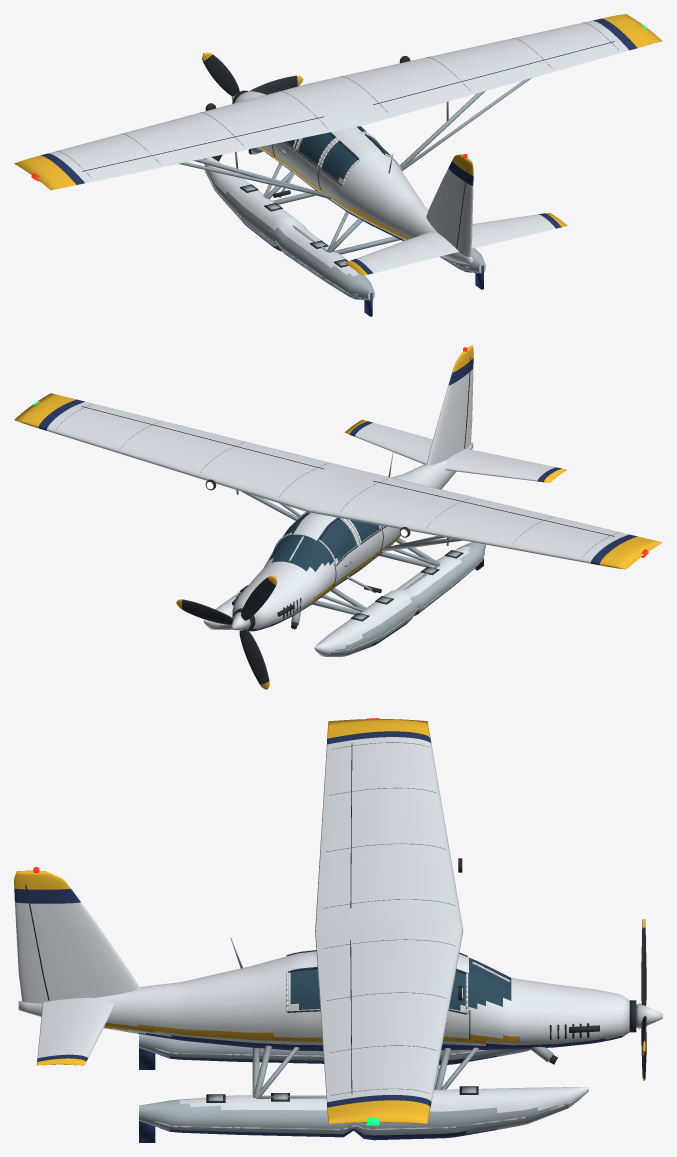
The model's file is floatplane.glb.
The picture shows the model from 3 angles, top to bottom: view 1: azimuth 30°, elevation 25°; view 2: azimuth 150°, elevation 25°; view 3: azimuth 270°, elevation 25°; orthographic projection. The views are drawn at different scales.
Visible parts, largest first — view 1: floatplane_airframe_fp_pearl, floatplane_airframe_fp_alloy, floatplane_airframe_fp_float, floatplane_airframe_fp_yellow, floatplane_airframe_fp_indigo, floatplane_airframe_fp_glass, floatplane_airframe_fp_gasket, floatplane_propeller_mesh; view 2: floatplane_airframe_fp_pearl, floatplane_airframe_fp_alloy, floatplane_airframe_fp_glass, floatplane_airframe_fp_yellow, floatplane_airframe_fp_float, floatplane_propeller_mesh, floatplane_airframe_fp_gasket, floatplane_airframe_fp_indigo; view 3: floatplane_airframe_fp_pearl, floatplane_airframe_fp_float, floatplane_airframe_fp_indigo, floatplane_airframe_fp_yellow, floatplane_airframe_fp_alloy, floatplane_airframe_fp_glass, floatplane_airframe_fp_gasket, floatplane_propeller_mesh.
Part boxes in pixels (x1,y1,x2,y2): floatplane_airframe_fp_pearl: (48,20,629,299); floatplane_airframe_fp_alloy: (56,22,618,295); floatplane_airframe_fp_float: (208,174,484,300); floatplane_airframe_fp_yellow: (14,14,662,275); floatplane_airframe_fp_indigo: (40,18,637,316); floatplane_airframe_fp_glass: (286,126,391,180); floatplane_airframe_fp_gasket: (82,41,614,267); floatplane_propeller_mesh: (202,52,303,161); floatplane_airframe_fp_pearl: (46,368,629,656); floatplane_airframe_fp_alloy: (56,404,618,652); floatplane_airframe_fp_glass: (269,512,383,571); floatplane_airframe_fp_yellow: (14,345,662,602); floatplane_airframe_fp_float: (207,542,485,656); floatplane_propeller_mesh: (176,576,277,689); floatplane_airframe_fp_gasket: (82,357,614,630); floatplane_airframe_fp_indigo: (38,358,637,651); floatplane_airframe_fp_pearl: (15,737,629,1112); floatplane_airframe_fp_float: (139,1034,568,1135); floatplane_airframe_fp_indigo: (14,731,629,1142); floatplane_airframe_fp_yellow: (14,719,519,1123); floatplane_airframe_fp_alloy: (154,742,638,1130); floatplane_airframe_fp_glass: (290,957,511,1010); floatplane_airframe_fp_gasket: (25,743,636,1102); floatplane_propeller_mesh: (638,919,662,1080).
Size of the model in its own units: 14.03 by 3.85 by 9.54.
